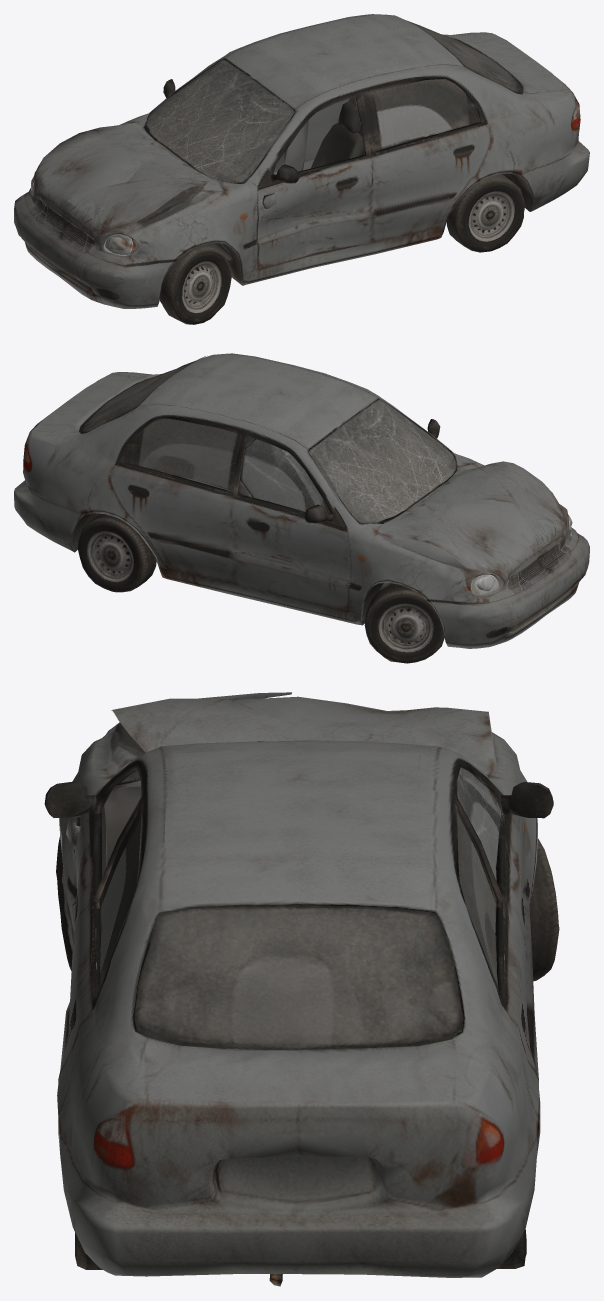
The model's file is Meshy_AI_a_crashed_car_0917065033_texture.glb.
The picture shows the model from 3 angles, top to bottom: view 1: azimuth 30°, elevation 25°; view 2: azimuth 150°, elevation 25°; view 3: azimuth 270°, elevation 25°; orthographic projection. The views are drawn at different scales.
Size of the model in its own units: 1 by 0.3613 by 0.4492.
Materials: 1 (1 with a texture image).
